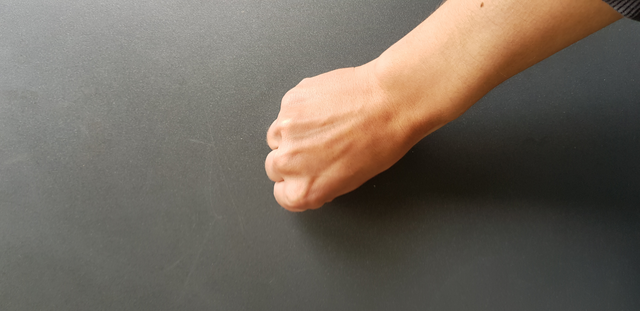Rock: (242, 56, 422, 222)
